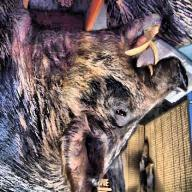boar: (0, 0, 189, 186)
